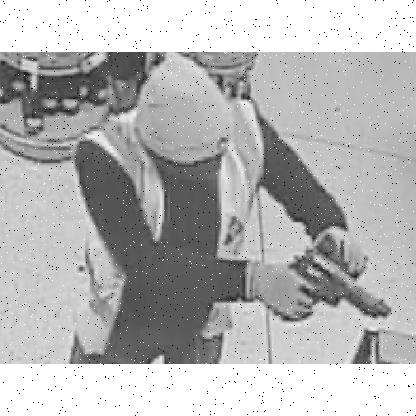gun: (286, 246, 400, 332)
